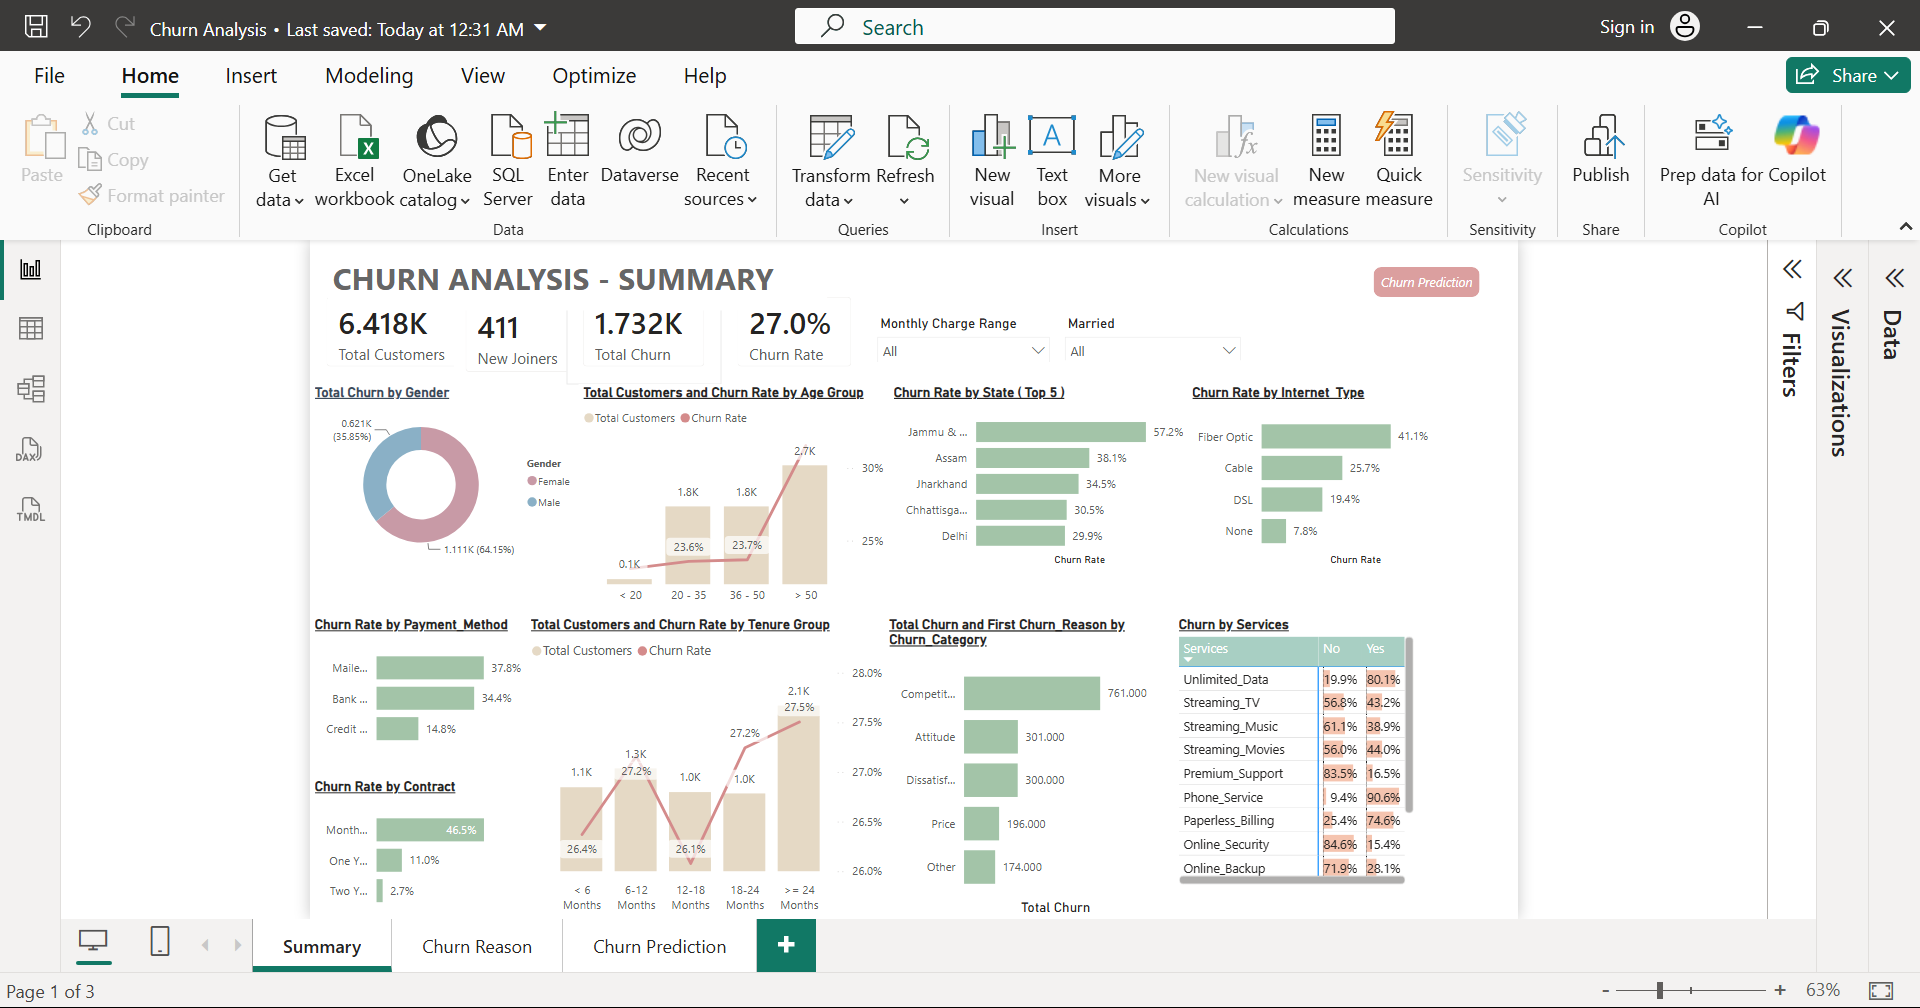

The dashboard page shown, as its layout file describes it:
{"tool":"powerbi","page":{"name":"Summary","canvas":[1280,720],"ordinal":0},"visuals":[{"type":"cardVisual","fields":{"Data":["tbl_Measures.Total Customers"]},"box":[0,43.1,180.1,108.8],"z":0},{"type":"cardVisual","fields":{"Data":["tbl_Measures.New Joiners"]},"box":[152,50.7,155.7,101.3],"z":1000},{"type":"cardVisual","fields":{"Data":["tbl_Measures.Churn Rate"]},"box":[435.2,43.1,155.7,108.8],"z":2000},{"type":"donutChart","fields":{"Category":["prod_Churn.Gender"],"Y":["tbl_Measures.Total Churn"]},"box":[0,152,290.8,197],"z":3000},{"type":"cardVisual","fields":{"Data":["tbl_Measures.Total Churn"]},"box":[272,43.1,163.2,108.8],"z":4000},{"type":"lineStackedColumnComboChart","fields":{"Category":["mapping_AgeGrp.Age Group"],"Y2":["tbl_Measures.Churn Rate"],"Y":["tbl_Measures.Total Customers"]},"box":[285.1,152,328.3,242],"z":5000},{"type":"clusteredBarChart","fields":{"Category":["prod_Churn.Payment_Method"],"Y":["tbl_Measures.Churn Rate"]},"box":[0,399.6,228.9,150.1],"z":6000},{"type":"clusteredBarChart","fields":{"Category":["prod_Churn.Contract"],"Y":["tbl_Measures.Churn Rate"]},"box":[0,570.3,228.9,150.1],"z":7000},{"type":"lineStackedColumnComboChart","fields":{"Category":["mapping_TenureGrp.Tenure Group"],"Y":["tbl_Measures.Total Customers"],"Y2":["tbl_Measures.Churn Rate"]},"box":[228.9,399.6,382.7,320.8],"z":8000},{"type":"clusteredBarChart","title":"Churn Rate by State ( Top 5 )","fields":{"Category":["prod_Churn.State"],"Y":["tbl_Measures.Churn Rate"]},"box":[613.4,152,317,197],"z":9000},{"type":"clusteredBarChart","fields":{"Category":["prod_Churn.Churn_Category"],"Y":["tbl_Measures.Total Churn"]},"box":[609.7,399.6,283.3,320.8],"z":10000},{"type":"clusteredBarChart","fields":{"Category":["prod_Churn.Internet_Type"],"Y":["tbl_Measures.Churn Rate"]},"box":[930.5,152,283.3,197],"z":11000},{"type":"pivotTable","title":"Churn by Services","fields":{"Rows":["prod_Services.Services"],"Columns":["prod_Services.Status"],"Values":["Sum(prod_Services.Churn Status)"]},"box":[915.5,399.6,258.9,288.9],"z":12000},{"type":"slicer","fields":{"Values":["prod_Services.Monthly Charge Status"]},"box":[590.9,75,202.6,54.4],"z":13000},{"type":"slicer","fields":{"Values":["prod_Services.Married"]},"box":[789.8,75,206.4,52.5],"z":14000},{"type":"textbox","box":[18.8,13.1,529,61.9],"z":15000},{"type":"shape","box":[1127.4,28.1,112.6,31.9],"z":16000}]}

Visuals, with their boxes on the page's 1280x720 design canvas (x1, y1, x2, y2). These are canvas units, not pixel positions in the 1920x1008 screenshot, which may show the page scaled, cropped or inside an application window:
cardVisual - tbl_Measures.Total Customers: rect(0, 43, 180, 152)
cardVisual - tbl_Measures.New Joiners: rect(152, 51, 308, 152)
cardVisual - tbl_Measures.Churn Rate: rect(435, 43, 591, 152)
donutChart - prod_Churn.Gender x tbl_Measures.Total Churn: rect(0, 152, 291, 349)
cardVisual - tbl_Measures.Total Churn: rect(272, 43, 435, 152)
lineStackedColumnComboChart - mapping_AgeGrp.Age Group x tbl_Measures.Churn Rate: rect(285, 152, 613, 394)
clusteredBarChart - prod_Churn.Payment_Method x tbl_Measures.Churn Rate: rect(0, 400, 229, 550)
clusteredBarChart - prod_Churn.Contract x tbl_Measures.Churn Rate: rect(0, 570, 229, 720)
lineStackedColumnComboChart - mapping_TenureGrp.Tenure Group x tbl_Measures.Total Customers: rect(229, 400, 612, 720)
"Churn Rate by State ( Top 5 )" clusteredBarChart: rect(613, 152, 930, 349)
clusteredBarChart - prod_Churn.Churn_Category x tbl_Measures.Total Churn: rect(610, 400, 893, 720)
clusteredBarChart - prod_Churn.Internet_Type x tbl_Measures.Churn Rate: rect(930, 152, 1214, 349)
"Churn by Services" pivotTable: rect(916, 400, 1174, 688)
slicer - prod_Services.Monthly Charge Status: rect(591, 75, 794, 129)
slicer - prod_Services.Married: rect(790, 75, 996, 128)
textbox: rect(19, 13, 548, 75)
shape: rect(1127, 28, 1240, 60)
